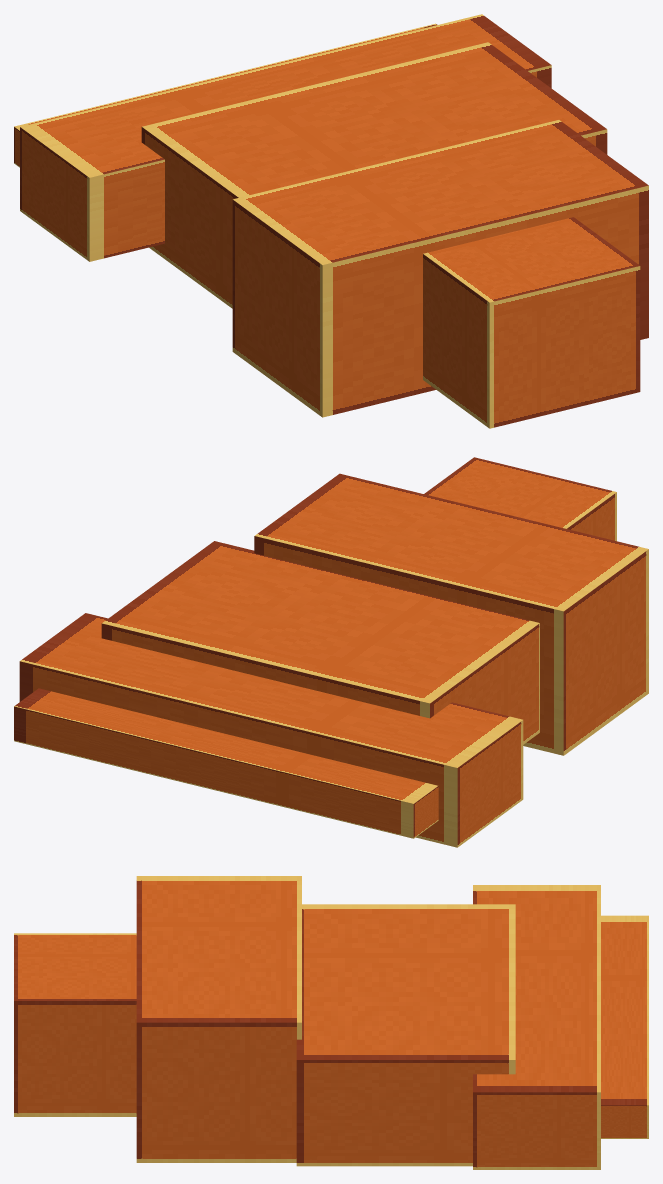
Rendered from bench_axe_1_hot.obj.
The picture shows the model from 3 angles, top to bottom: view 1: azimuth 30°, elevation 25°; view 2: azimuth 150°, elevation 25°; view 3: azimuth 270°, elevation 25°; orthographic projection. The views are drawn at different scales.
Parts seen in each view (by area): view 1: geometry; view 2: geometry; view 3: geometry.
Boxes of the visible parts, x1,y1,x2,y2 form: geometry: (14, 14, 648, 428); geometry: (14, 457, 648, 847); geometry: (14, 876, 648, 1169).
Bounding box in the file's own units: 0.5798 × 0.1828 × 0.75.
